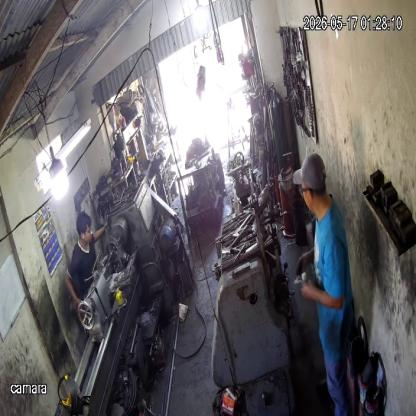lentes: (295, 184, 311, 199)
